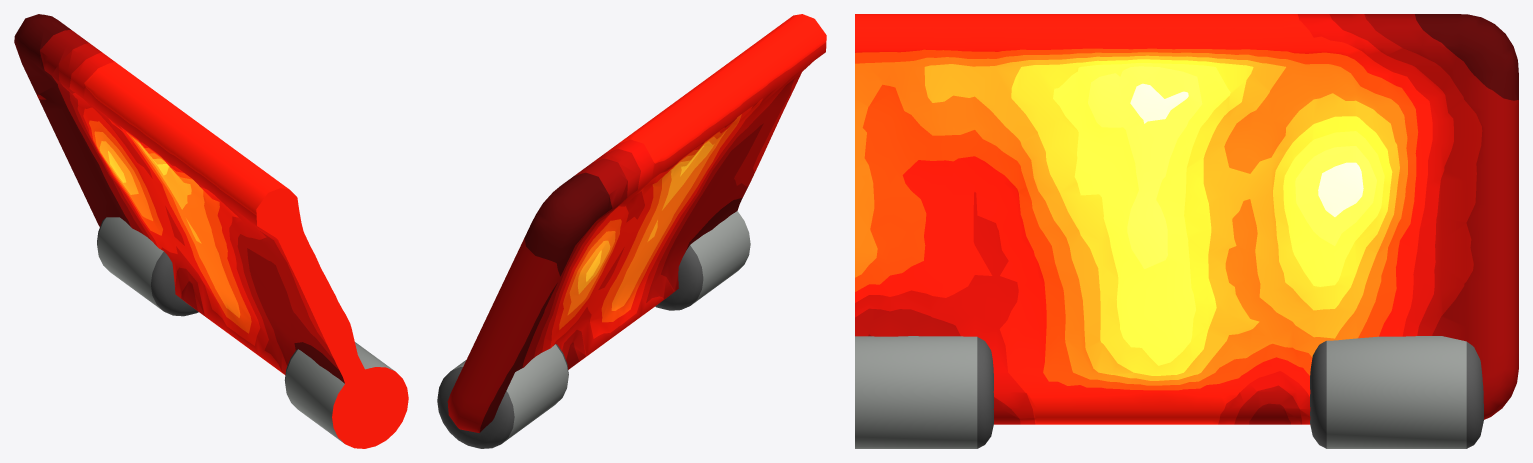
Rendered from fire_flap_5.glb.
3 renders of one model, left to right at view 1: azimuth 30°, elevation 25°; view 2: azimuth 150°, elevation 25°; view 3: azimuth 270°, elevation 25°, orthographic. The views are drawn at different scales.
Visible parts, largest first — view 1: flap.001, knuckle1.001, knuckle0.001; view 2: flap.001, knuckle0.001, knuckle1.001; view 3: flap.001, knuckle0.001, knuckle1.001.
Boxes of the visible parts, bbox=[...] form: flap.001: bbox=[14, 14, 392, 429]; knuckle1.001: bbox=[284, 342, 408, 448]; knuckle0.001: bbox=[97, 217, 198, 316]; flap.001: bbox=[447, 14, 826, 432]; knuckle0.001: bbox=[437, 344, 568, 448]; knuckle1.001: bbox=[655, 211, 750, 310]; flap.001: bbox=[855, 14, 1518, 424]; knuckle0.001: bbox=[1310, 336, 1483, 448]; knuckle1.001: bbox=[855, 336, 993, 448].
Size of the model in its own units: 6.55 by 11.57 by 19.
